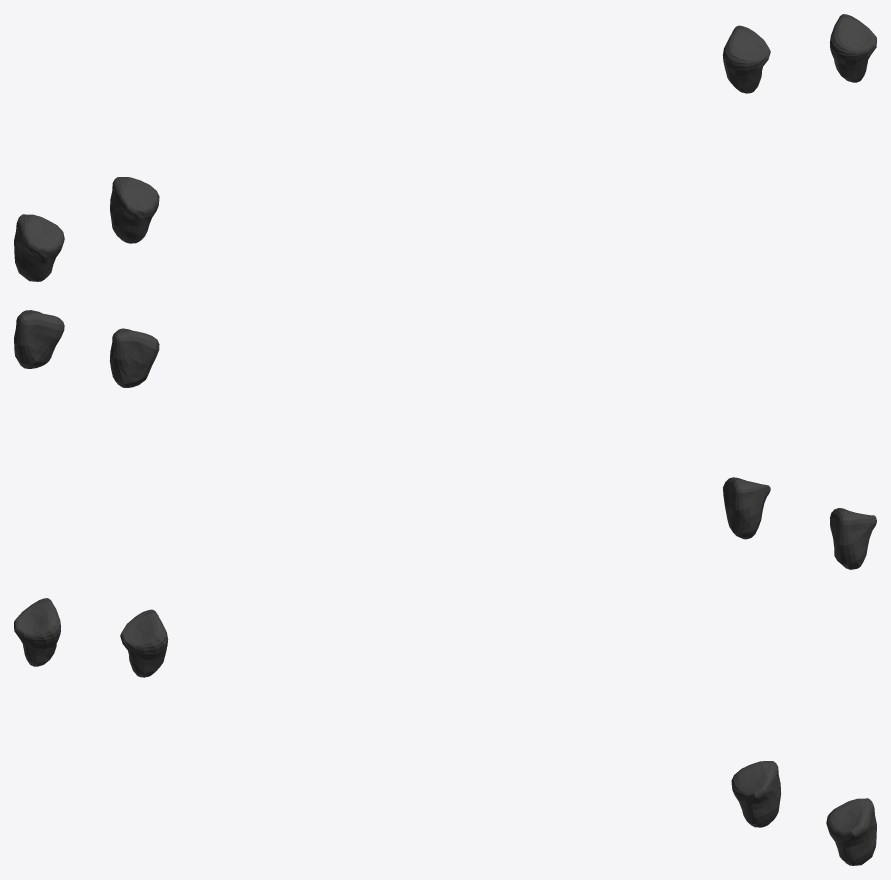
File: Sesamoids_fabellae_1.glb
3 views of the same model, one above another, from view 1: azimuth 30°, elevation 25°; view 2: azimuth 150°, elevation 25°; view 3: azimuth 330°, elevation 25° (orthographic).
Parts seen in each view (by area): view 1: Sesamoids_fabellae_1; view 2: Sesamoids_fabellae_1; view 3: Sesamoids_fabellae_1.
Boxes of the visible parts, x1=… form: Sesamoids_fabellae_1: x1=14, y1=14, x2=876, y2=281; Sesamoids_fabellae_1: x1=14, y1=310, x2=876, y2=569; Sesamoids_fabellae_1: x1=14, y1=598, x2=876, y2=865.
Bounding box in the file's own units: 0.00525 × 0.000413 × 0.000339.
Materials: 1 (1 with a texture image).
